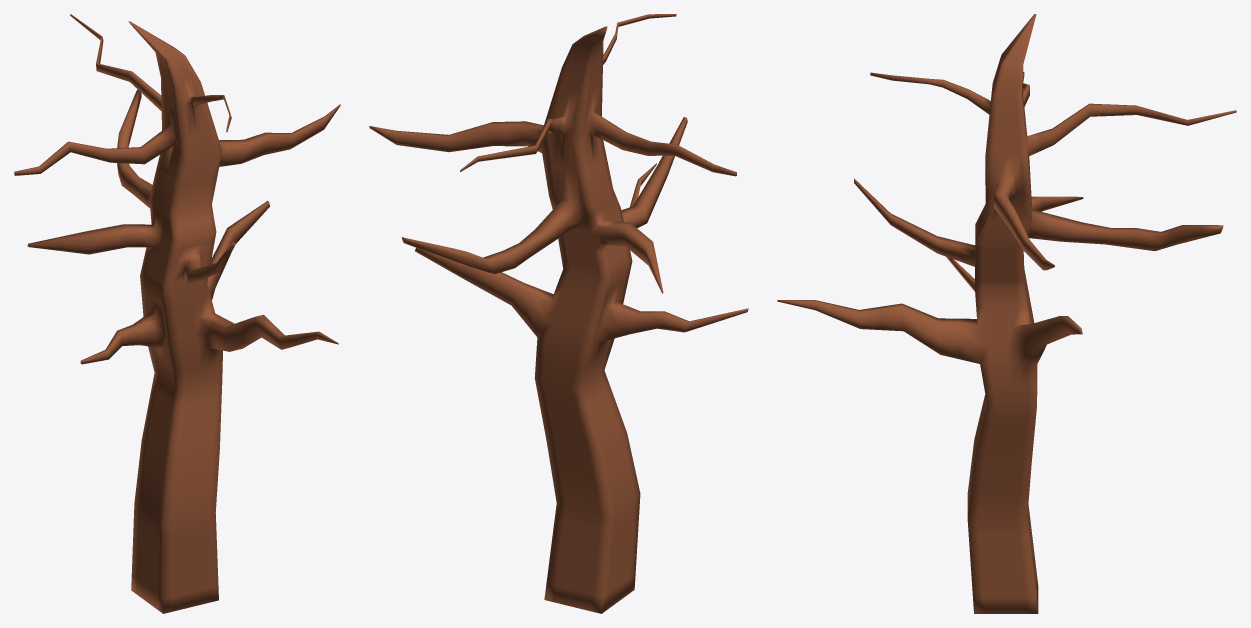
File: tree01.fbx
3 views of the same model, side by side, from view 1: azimuth 30°, elevation 25°; view 2: azimuth 150°, elevation 25°; view 3: azimuth 270°, elevation 25° (orthographic). The views are drawn at different scales.
Visible parts, largest first — view 1: Cube; view 2: Cube; view 3: Cube.
Part boxes in pixels (x1,y1,x2,y2): Cube: (14,14,340,613); Cube: (369,14,748,613); Cube: (777,14,1236,613).
Bounding box in the file's own units: 638 × 1017 × 742.
